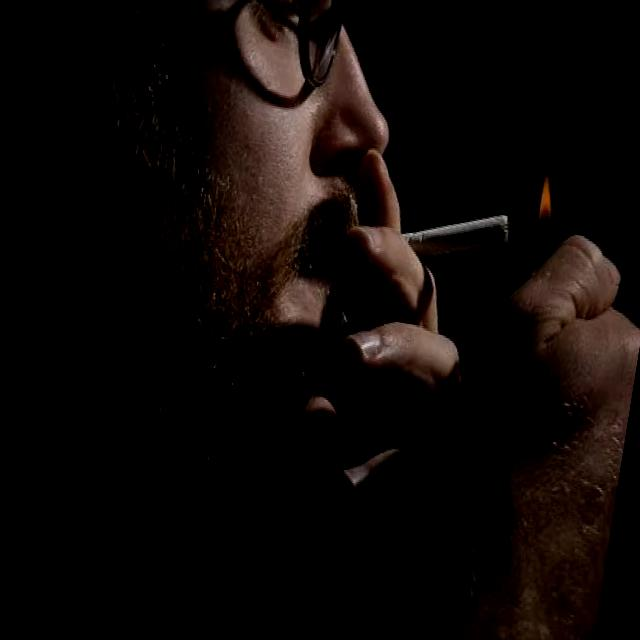cigarette: (384, 192, 521, 279)
